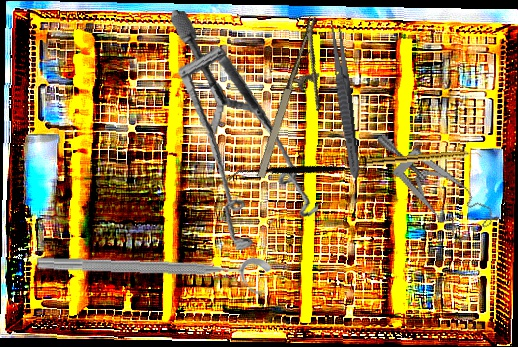Dressing Forceps: (325, 17, 365, 182)
Fixation Ring: (36, 249, 272, 297)
Handpiece: (365, 148, 483, 169)
Needle Holder: (252, 15, 349, 188)
Spatula Surgical: (227, 105, 374, 237)
Speculum: (140, 9, 343, 261), (374, 106, 500, 258)
